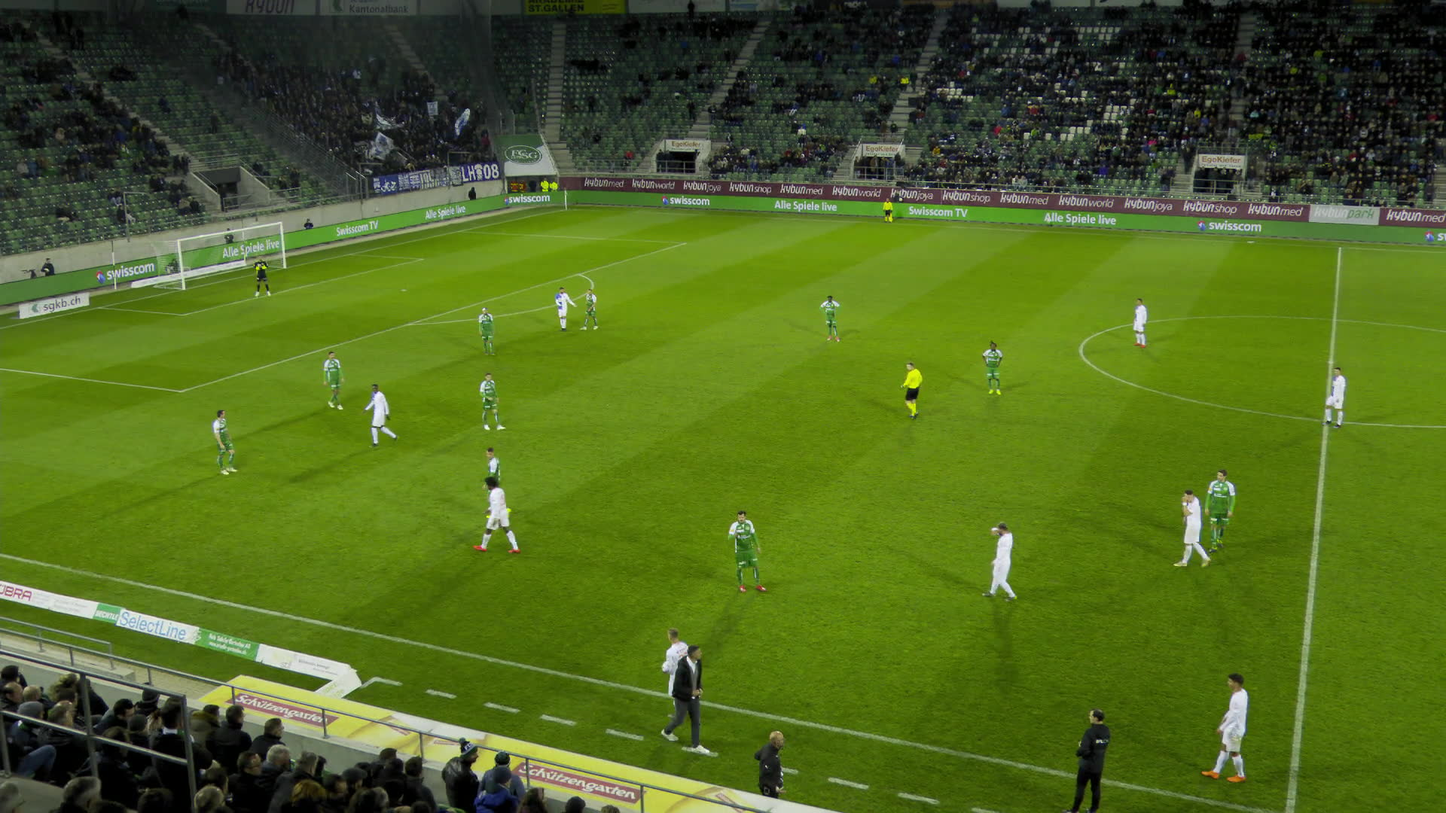ball: (662, 661, 667, 669)
player: (1200, 672, 1246, 782), (663, 627, 697, 720), (477, 476, 517, 553), (729, 511, 764, 594), (1173, 490, 1209, 568), (983, 521, 1015, 598), (480, 448, 513, 521), (1206, 470, 1234, 550), (364, 384, 395, 448), (213, 409, 240, 473), (1322, 367, 1345, 428), (478, 372, 502, 430), (323, 352, 345, 410), (982, 341, 1002, 394), (554, 287, 576, 331), (819, 296, 840, 342), (252, 256, 270, 299), (479, 307, 495, 355), (579, 288, 597, 330), (1132, 298, 1146, 346)
referee: (901, 363, 923, 422), (883, 198, 892, 223)
